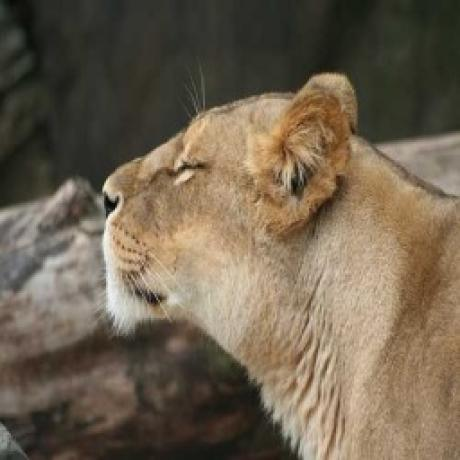Lion: (102, 66, 460, 460)
